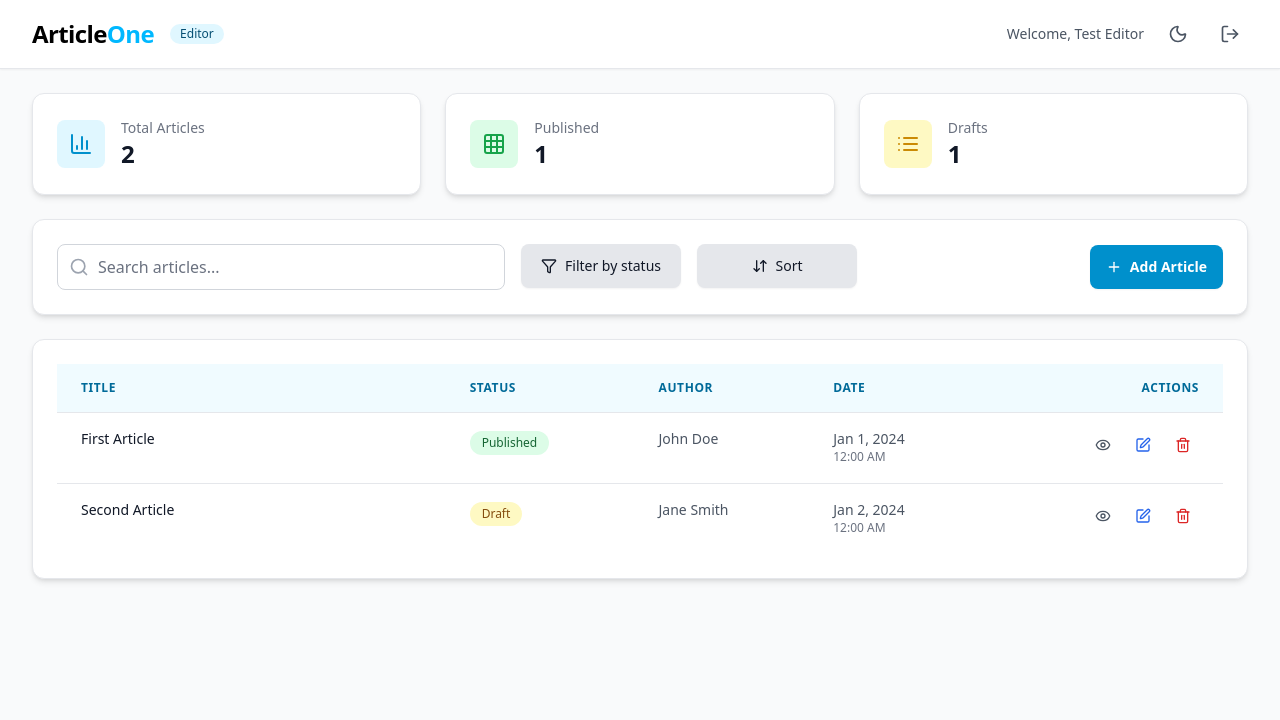
Test case: shows a red toast after deleting an article
Expected: the text "First Article" is shown, [81, 429, 155, 448]
Click the button named "delete article" in the row of "First Article" at (1183, 445), box [1167, 429, 1199, 461]
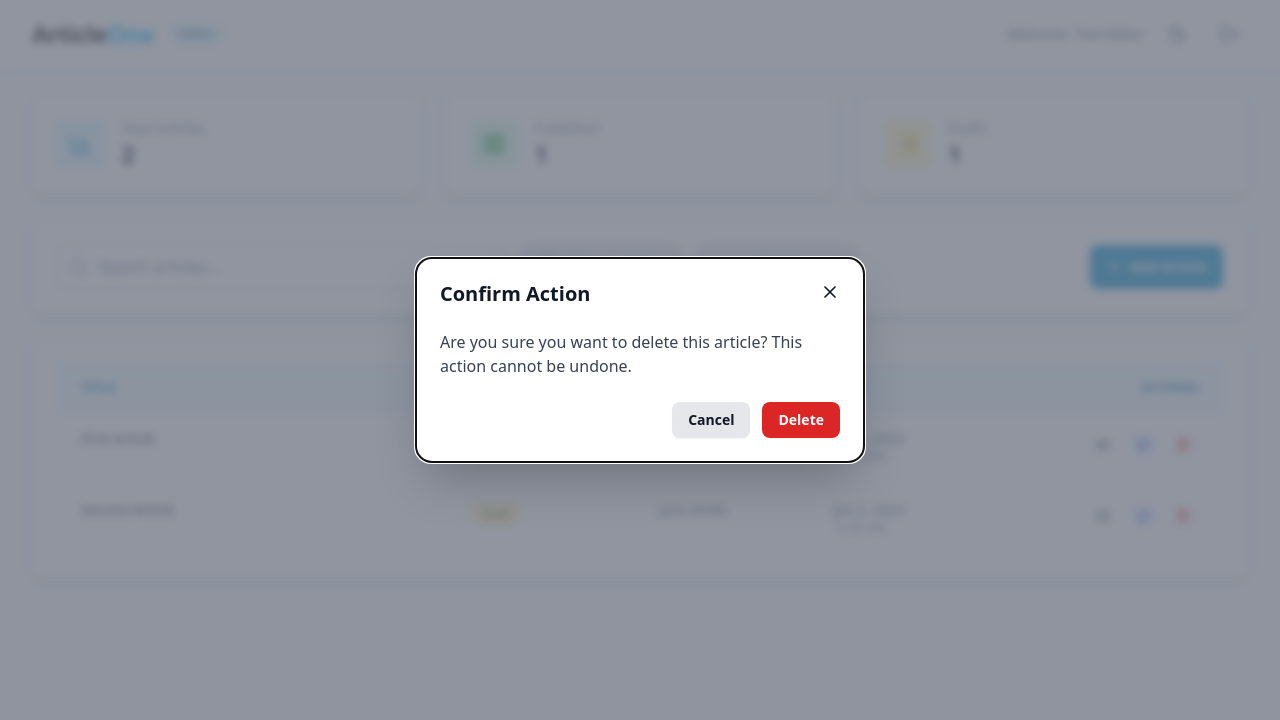
Note: Confirm in modal
Click the button "Delete" at (801, 420), box [762, 402, 840, 438]
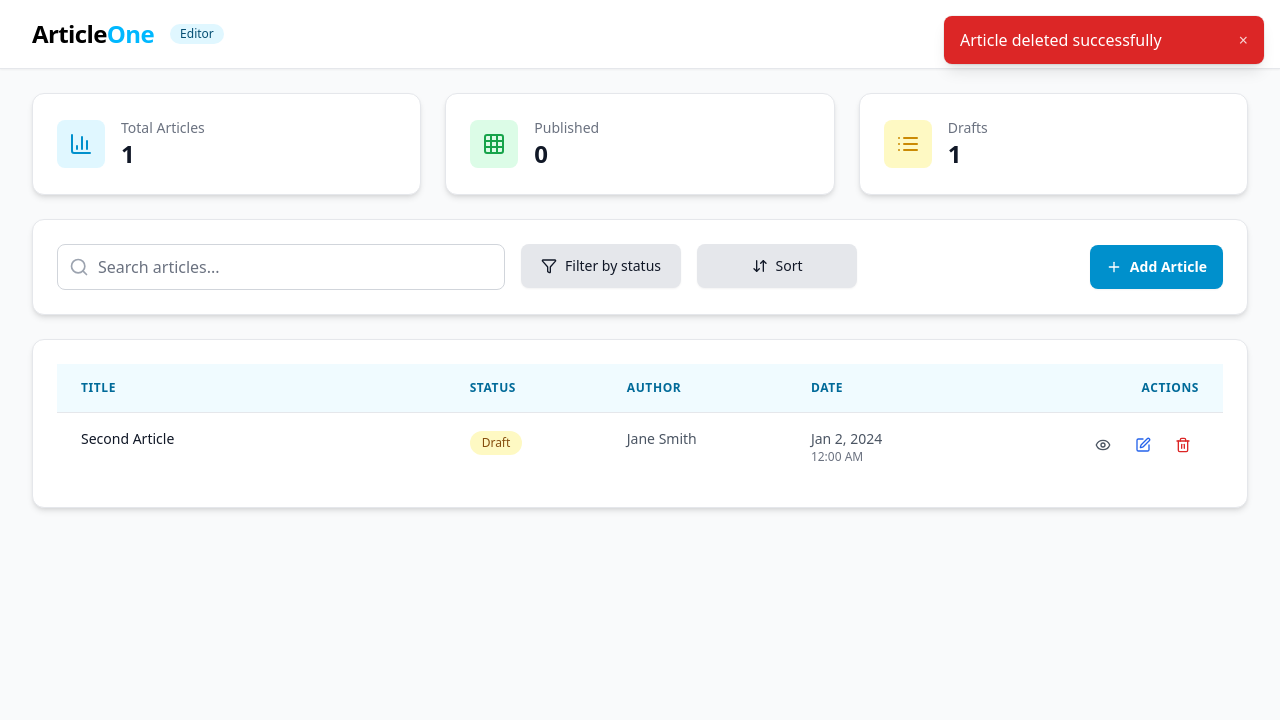
Result: the text "Article deleted successfully" is shown at [960, 29, 1162, 51]
